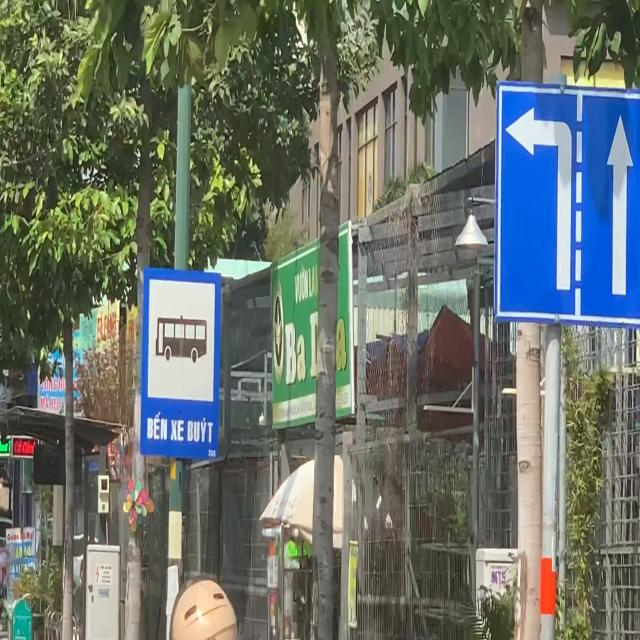Ben xe buyt: (139, 264, 222, 462)
